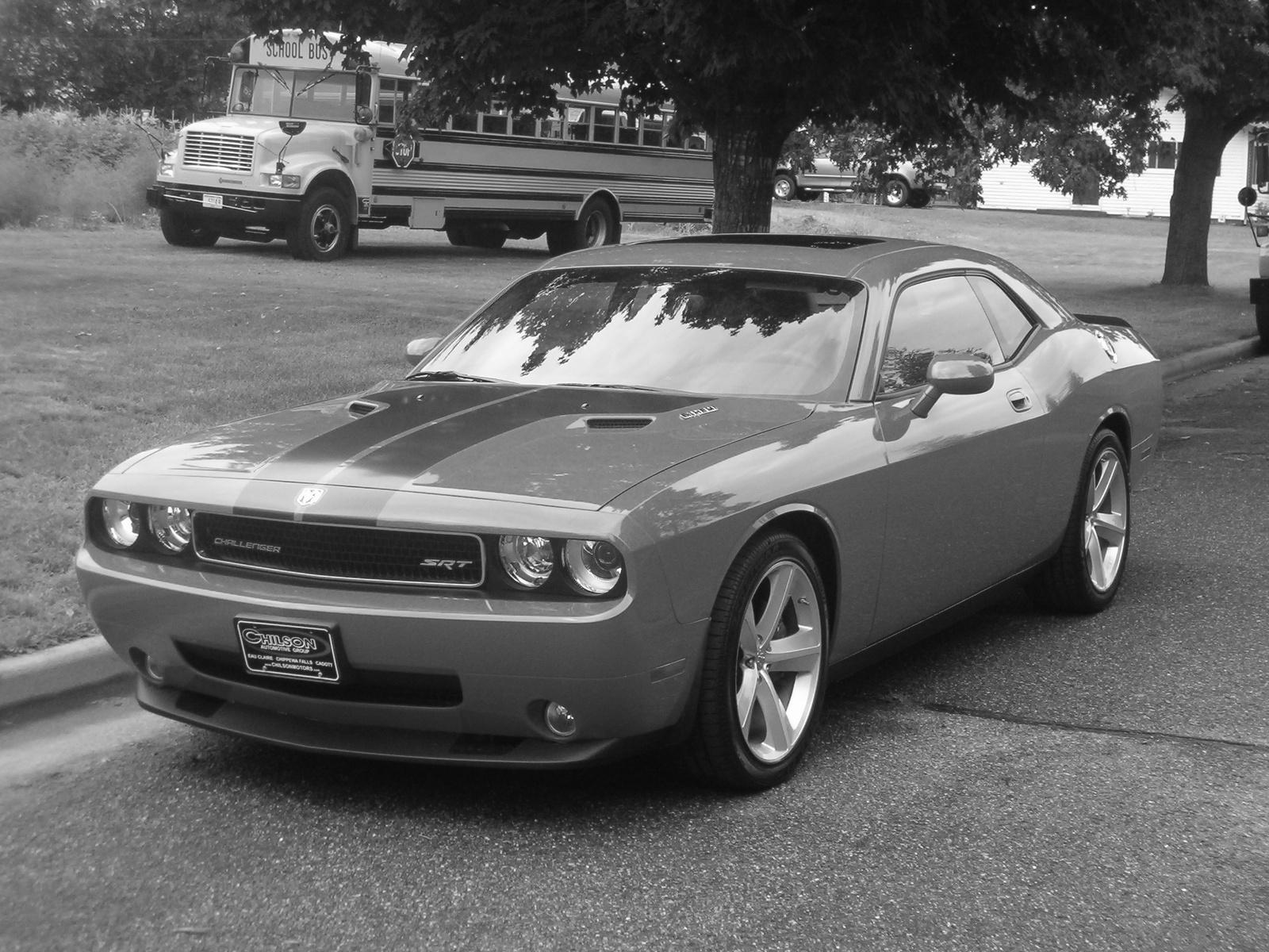car: (72, 232, 1167, 805)
